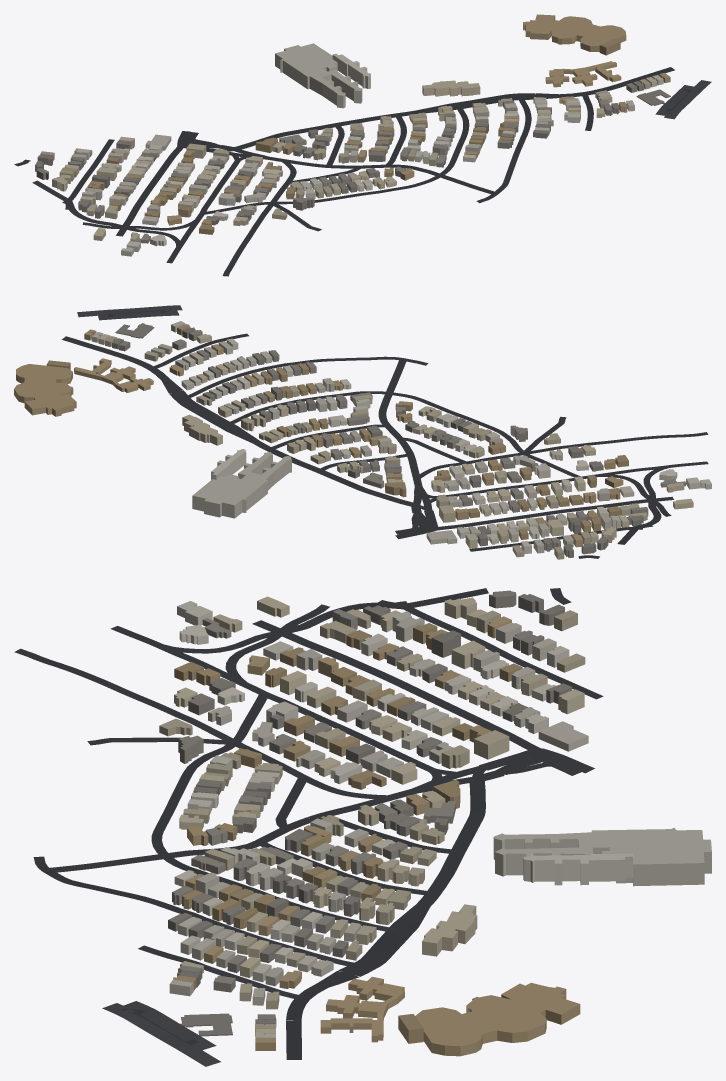
The model's file is tile_7_17.glb.
3 views of the same model, one above another, from view 1: azimuth 30°, elevation 25°; view 2: azimuth 150°, elevation 25°; view 3: azimuth 270°, elevation 25° (orthographic). The views are drawn at different scales.
Parts seen in each view (by area): view 1: bld_7_17, road_7_17; view 2: bld_7_17, road_7_17; view 3: bld_7_17, road_7_17.
Boxes of the visible parts, <box> form: bld_7_17: <box>35,14,670,256</box>; road_7_17: <box>14,67,711,276</box>; bld_7_17: <box>14,321,711,559</box>; road_7_17: <box>61,305,708,558</box>; bld_7_17: <box>159,590,711,1056</box>; road_7_17: <box>14,588,603,1066</box>.
Bounding box in the file's own units: 845 × 47.88 × 494.
